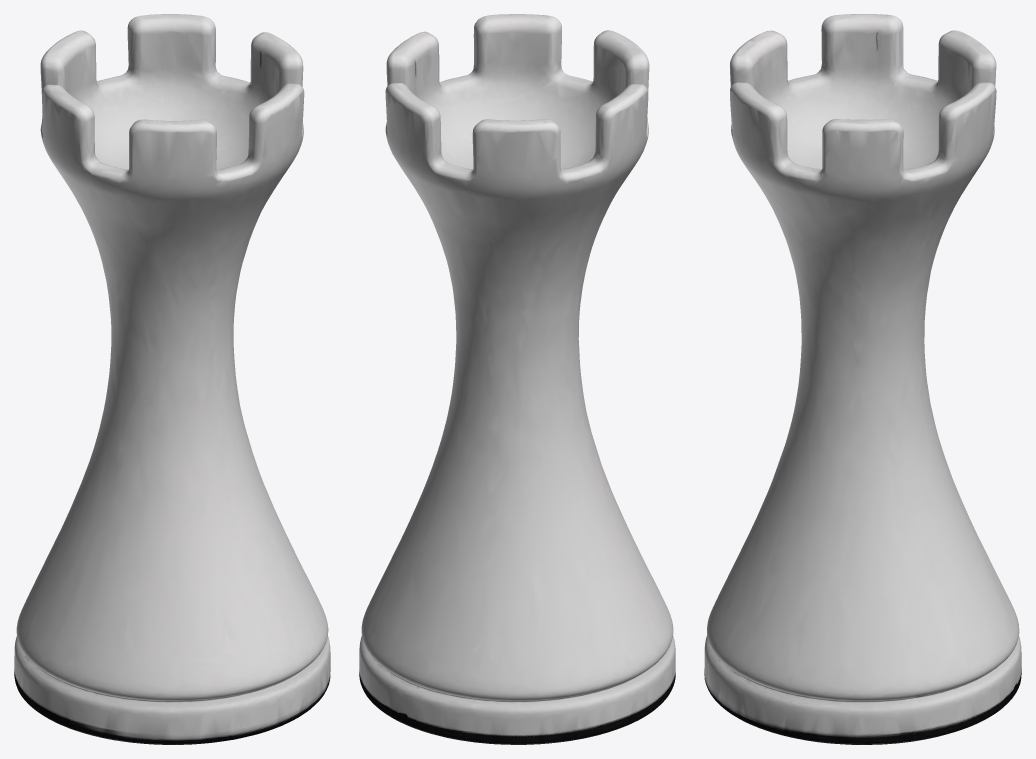
The model's file is rook-white-hd.glb.
The picture shows the model from 3 angles, left to right: view 1: azimuth 30°, elevation 25°; view 2: azimuth 150°, elevation 25°; view 3: azimuth 270°, elevation 25°; orthographic projection.
Size of the model in its own units: 0.5161 by 1.1 by 0.5163.
Materials: 1 (1 with a texture image).
